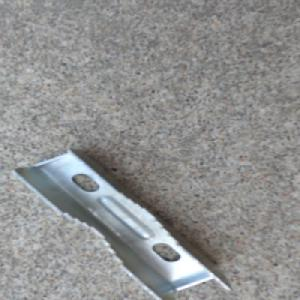ClampPart: (10, 147, 232, 300)
